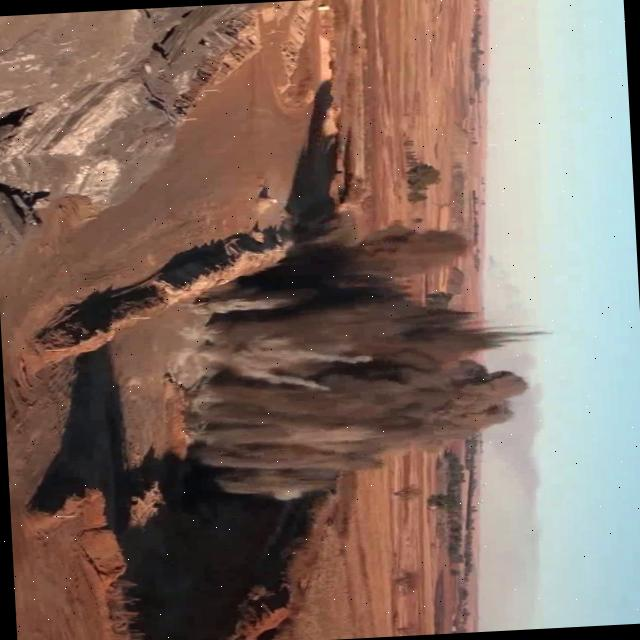explosion: (108, 192, 566, 524)
